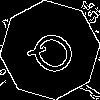Q: (25, 25, 87, 86)
